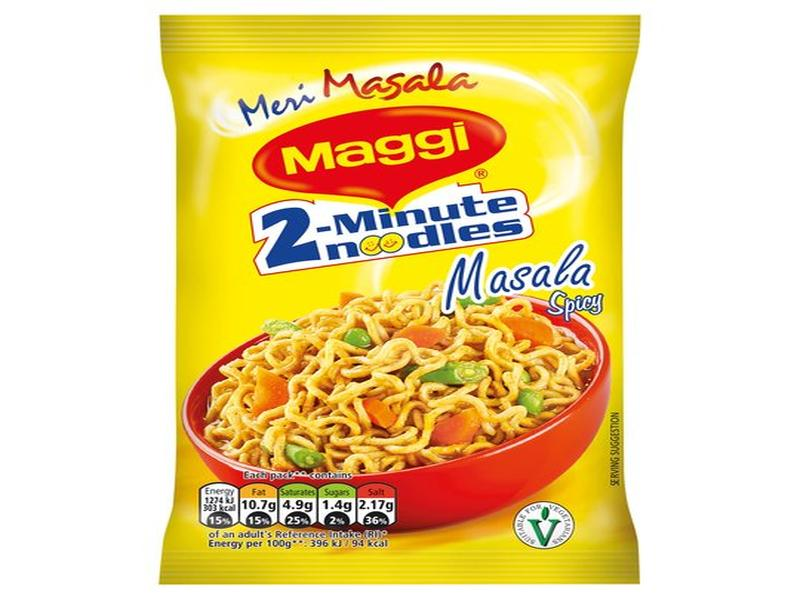maggi-small: (160, 10, 645, 588)
